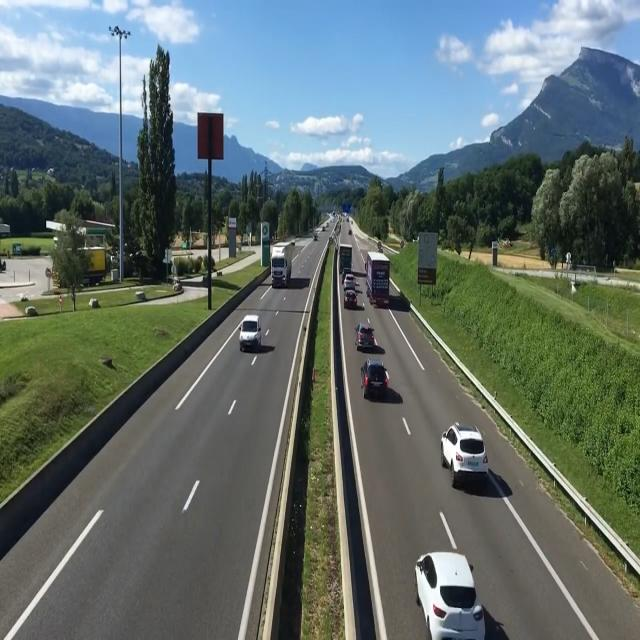car: (415, 554, 493, 640), (443, 423, 489, 492), (361, 352, 394, 405), (237, 313, 269, 354), (357, 321, 379, 355), (342, 292, 360, 311)
truck: (268, 234, 296, 290), (370, 250, 393, 312)
